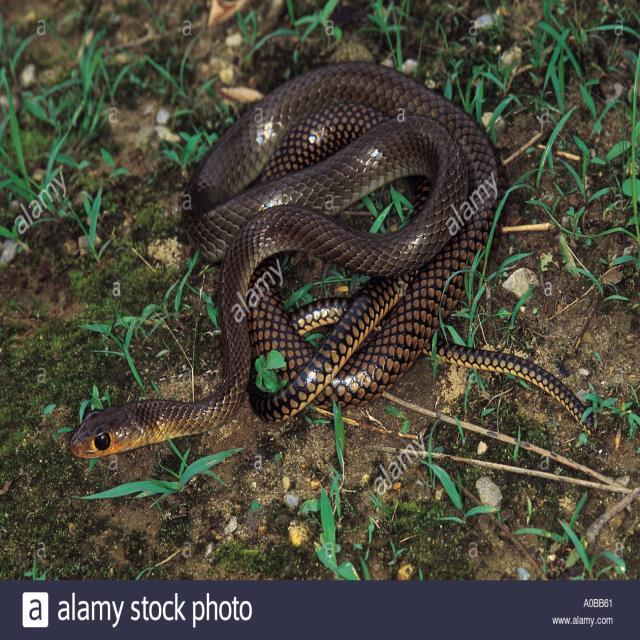Snake: (67, 53, 599, 466)
